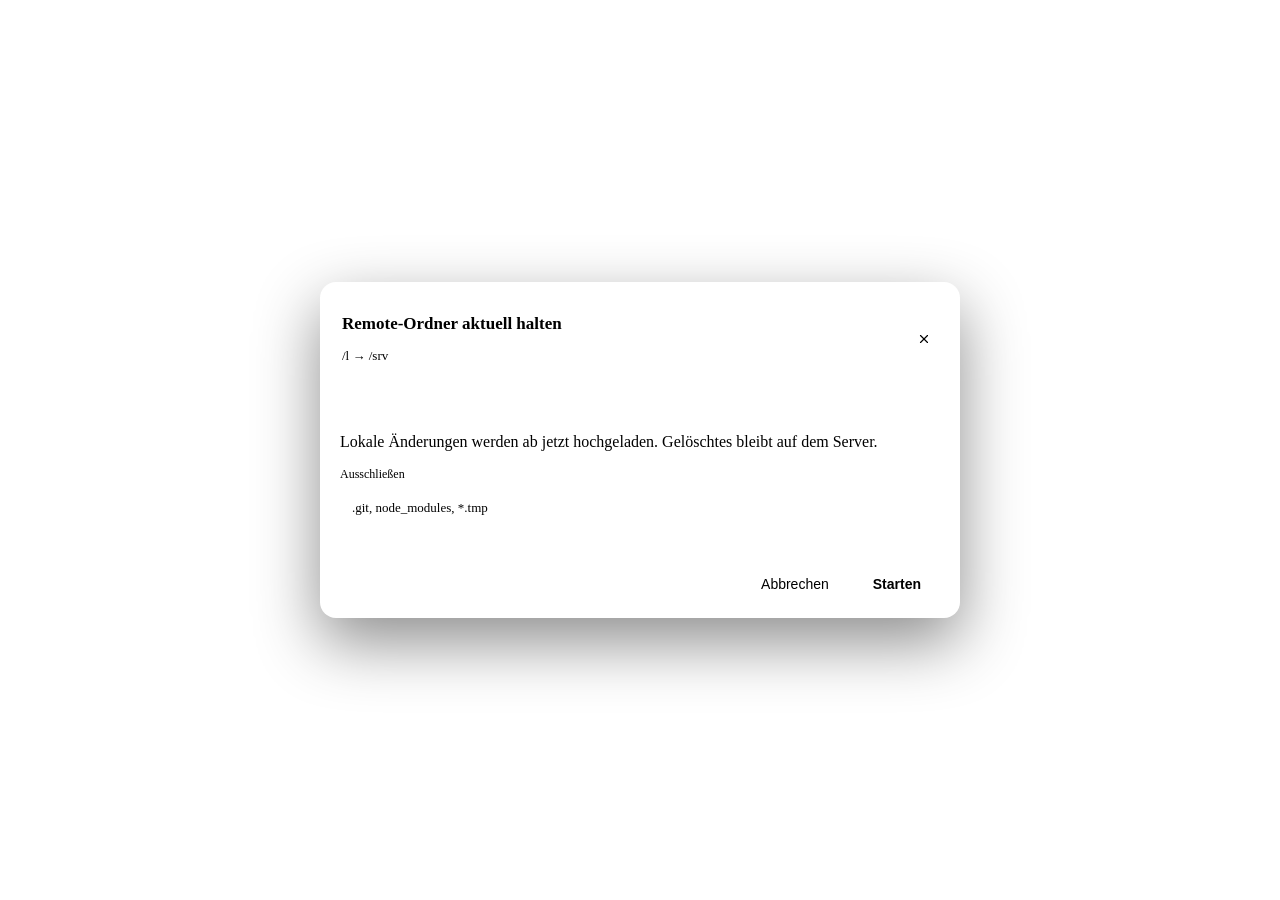
Test: KeepDialog › stays open with the error when starting fails
Click the button "Starten" at (897, 584), box [856,564,938,604]
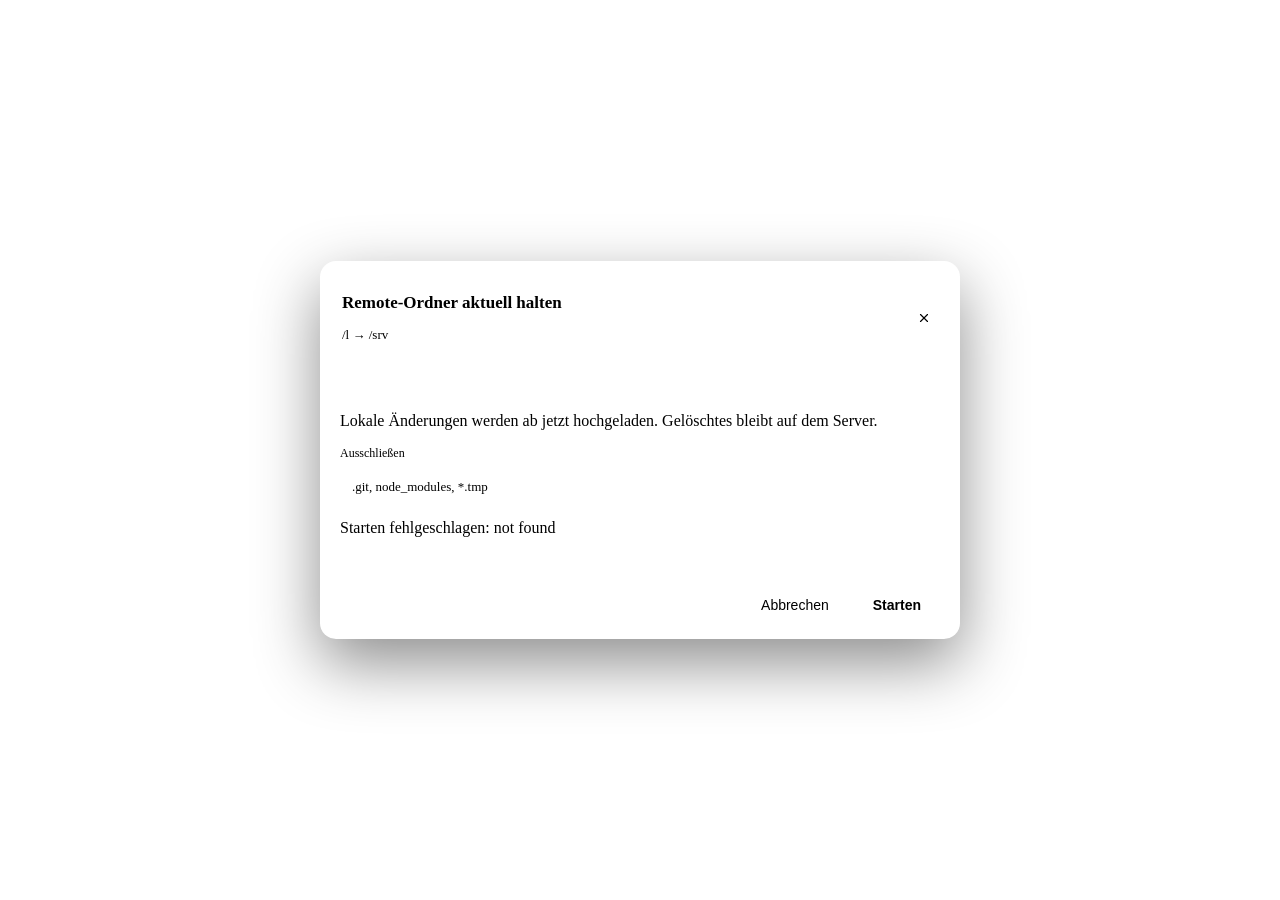
Expected: the message reads "Starten fehlgeschlagen: not found", [340,519,556,536]
